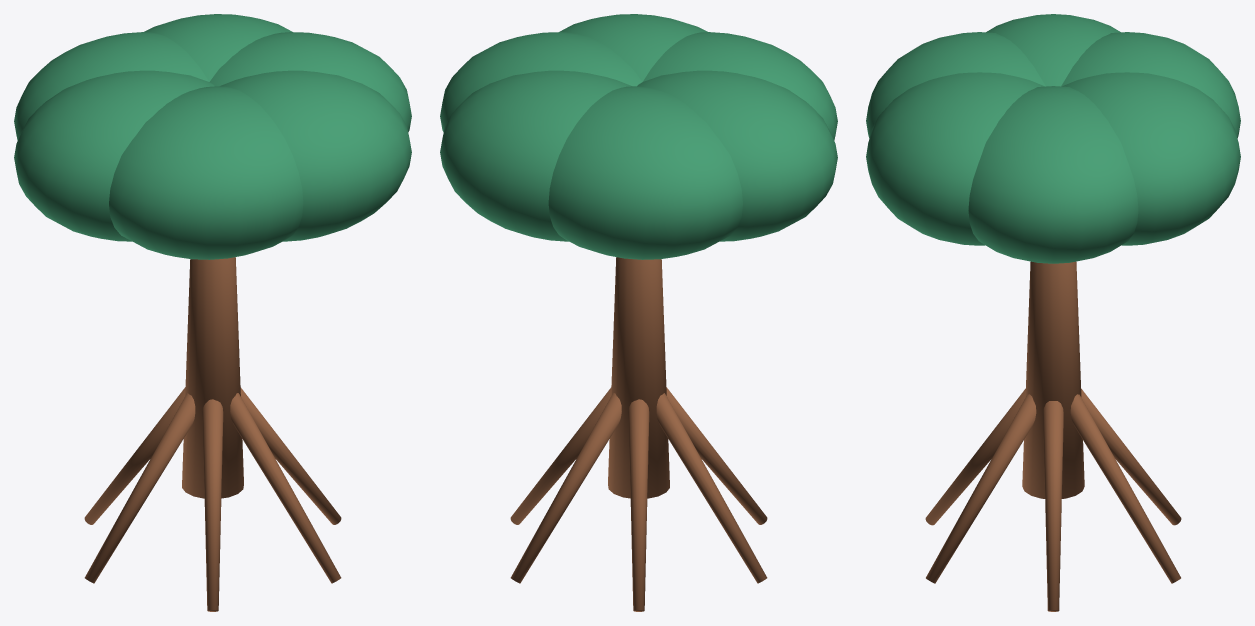
Rendered from Mangrove_tree.glb.
3 views of the same model, side by side, from view 1: azimuth 30°, elevation 25°; view 2: azimuth 150°, elevation 25°; view 3: azimuth 270°, elevation 25° (orthographic).
Parts seen in each view (by area): view 1: Canopy.004, Canopy.005, Canopy.003, Trunk, Canopy, Canopy.002, Canopy.001, Stilt root.004, Stilt root.005, Stilt root.003, Stilt root.002, Stilt root; view 2: Canopy.002, Canopy.001, Canopy.003, Trunk, Canopy, Canopy.004, Canopy.005, Stilt root.002, Stilt root.001, Stilt root.003, Stilt root.004, Stilt root; view 3: Canopy, Canopy.001, Canopy.005, Trunk, Canopy.002, Canopy.004, Canopy.003, Stilt root, Stilt root.001, Stilt root.005, Stilt root.002, Stilt root.004.
Part boxes in pixels (x1,y1,x2,y2): Canopy.004: [109, 86, 303, 259]; Canopy.005: [220, 70, 411, 241]; Canopy.003: [14, 70, 214, 241]; Trunk: [182, 257, 243, 498]; Canopy: [209, 32, 411, 131]; Canopy.002: [14, 32, 208, 140]; Canopy.001: [144, 14, 292, 81]; Stilt root.004: [202, 399, 223, 611]; Stilt root.005: [230, 393, 341, 583]; Stilt root.003: [84, 393, 195, 583]; Stilt root.002: [84, 387, 185, 524]; Stilt root: [240, 387, 341, 524]; Canopy.002: [548, 86, 742, 259]; Canopy.001: [440, 70, 631, 241]; Canopy.003: [637, 70, 837, 241]; Trunk: [608, 257, 669, 498]; Canopy: [440, 32, 642, 131]; Canopy.004: [643, 32, 837, 140]; Canopy.005: [559, 14, 707, 81]; Stilt root.002: [628, 399, 649, 611]; Stilt root.001: [510, 393, 621, 583]; Stilt root.003: [656, 393, 767, 583]; Stilt root.004: [666, 387, 767, 524]; Stilt root: [510, 387, 611, 524]; Canopy: [968, 86, 1138, 263]; Canopy.001: [1062, 72, 1240, 245]; Canopy.005: [866, 72, 1044, 245]; Trunk: [1022, 261, 1084, 498]; Canopy.002: [1061, 32, 1240, 137]; Canopy.004: [866, 32, 1045, 137]; Canopy.003: [986, 14, 1120, 86]; Stilt root: [1043, 401, 1063, 611]; Stilt root.001: [1070, 394, 1180, 583]; Stilt root.005: [926, 394, 1036, 583]; Stilt root.002: [1081, 388, 1181, 525]; Stilt root.004: [925, 388, 1025, 525].
Bounding box in the file's own units: 3 × 3.77 × 2.64.
